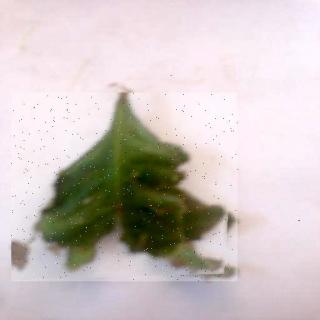Brown Blight: (13, 94, 240, 284)
